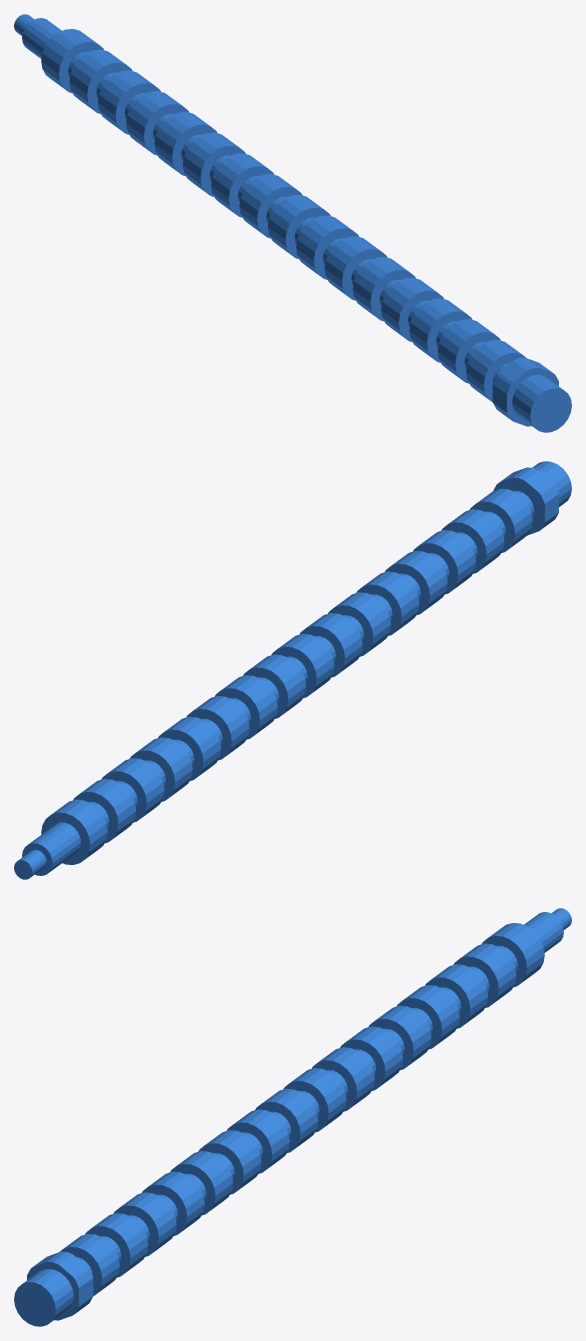
The model's file is hose-coolant-seg-npt.glb.
The picture shows the model from 3 angles, top to bottom: view 1: azimuth 30°, elevation 25°; view 2: azimuth 150°, elevation 25°; view 3: azimuth 330°, elevation 25°; orthographic projection.
Visible parts, largest first — view 1: body, port-a; view 2: body, port-a; view 3: body, port-a.
Part boxes in pixels (x1,y1,x2,y2): body: [14, 14, 558, 426]; port-a: [512, 375, 571, 432]; body: [14, 467, 558, 879]; port-a: [533, 461, 571, 506]; body: [27, 908, 571, 1320]; port-a: [14, 1269, 73, 1326].
Size of what is drawn, in the model's own units: 0.017 by 0.018 by 0.2982.
